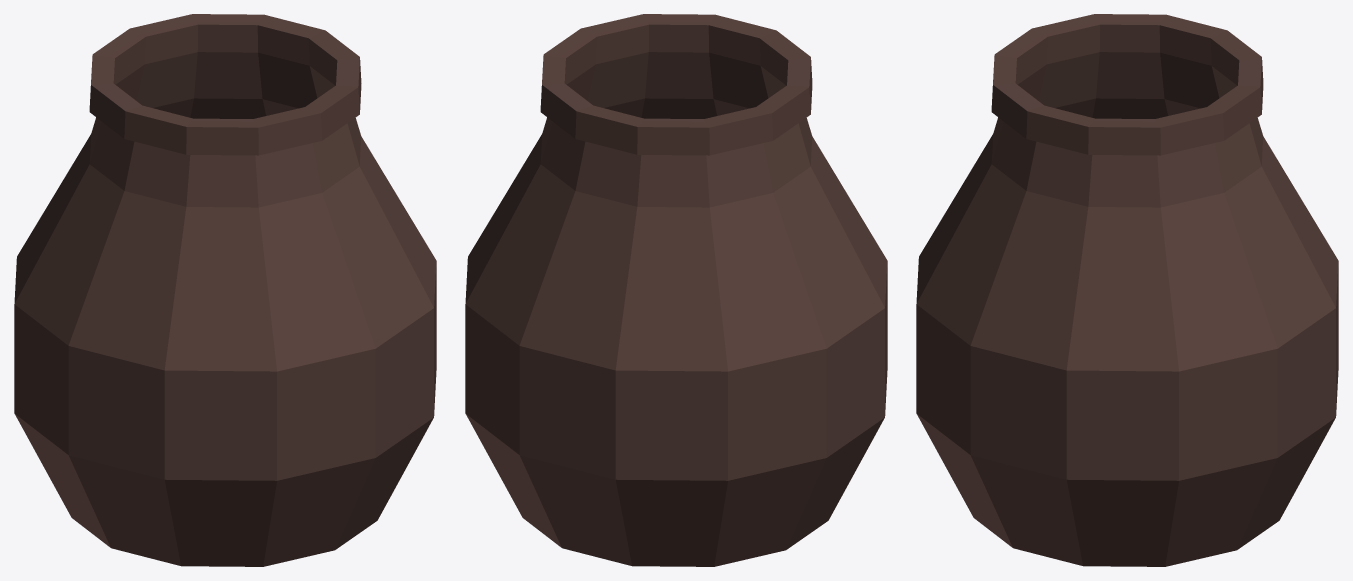
File: pot.fbx
3 renders of one model, left to right at view 1: azimuth 30°, elevation 25°; view 2: azimuth 150°, elevation 25°; view 3: azimuth 270°, elevation 25°, orthographic.
Visible parts, largest first — view 1: pot; view 2: pot; view 3: pot.
Part boxes in pixels (bbox=[...]): pot: bbox=[14, 14, 436, 566]; pot: bbox=[465, 14, 887, 566]; pot: bbox=[916, 14, 1338, 566].
Size of the model in its own units: 47.26 by 53.43 by 47.26.
